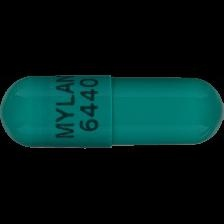0378-6440: (0, 0, 224, 224)
